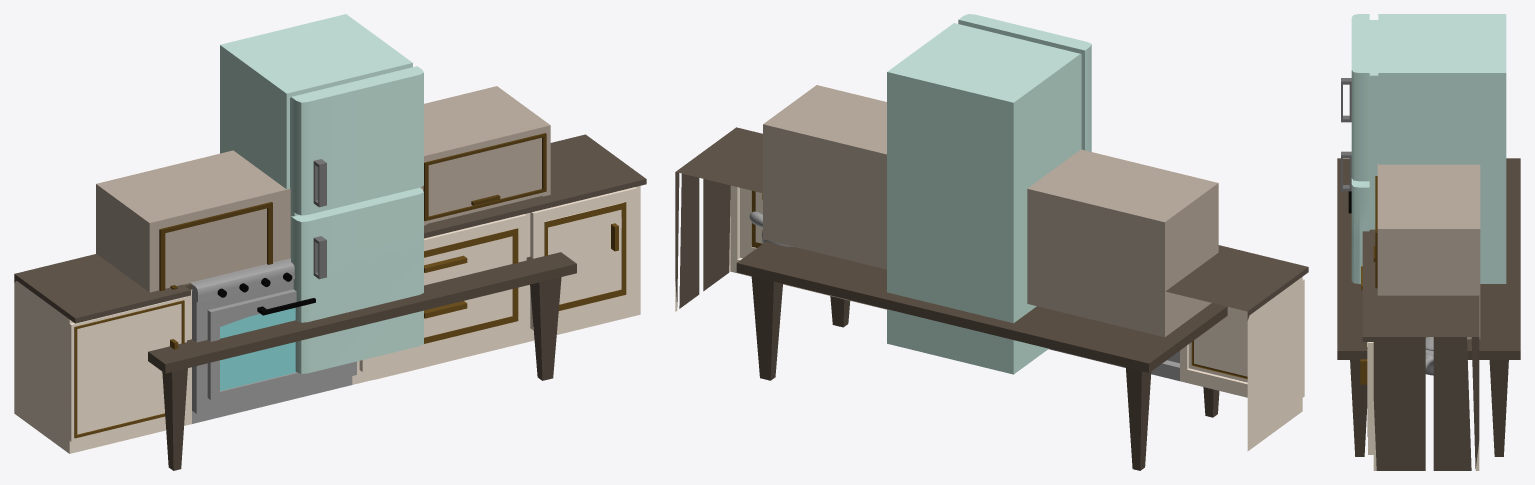
The model's file is Assets_TXT_2.fbx.
3 renders of one model, left to right at view 1: azimuth 30°, elevation 25°; view 2: azimuth 150°, elevation 25°; view 3: azimuth 270°, elevation 25°, orthographic. The views are drawn at different scales.
Parts seen in each view (by area): view 1: Cylinder009, Box003, Box004, Box007; view 2: Box003, Box004, Cylinder009, Box007; view 3: Box003, Cylinder009, Box004, Box007, pCube13.
Boxes of the visible parts, x1=… form: Cylinder009: x1=14, y1=134, x2=646, y2=453; Box003: x1=220, y1=14, x2=423, y2=373; Box004: x1=96, y1=86, x2=550, y2=292; Box007: x1=148, y1=252, x2=576, y2=470; Box003: x1=887, y1=14, x2=1091, y2=374; Box004: x1=763, y1=85, x2=1218, y2=337; Cylinder009: x1=675, y1=127, x2=1308, y2=451; Box007: x1=736, y1=241, x2=1227, y2=470; Box003: x1=1341, y1=14, x2=1506, y2=283; Cylinder009: x1=1348, y1=191, x2=1479, y2=470; Box004: x1=1373, y1=163, x2=1480, y2=339; Box007: x1=1337, y1=158, x2=1520, y2=456; pCube13: x1=1425, y1=337, x2=1433, y2=375.
Bounding box in the file's own units: 225 × 127 × 65.25.
